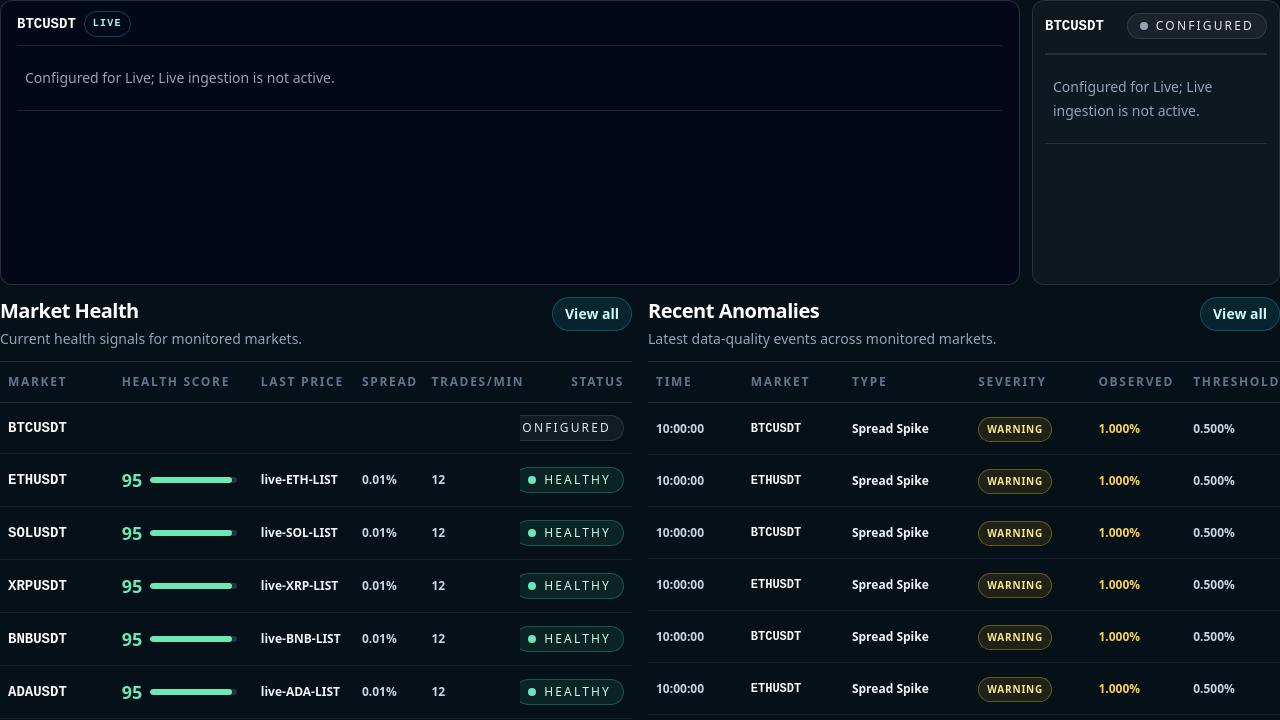
Test: dashboard popup mode ownership › uses the exact empty state and disables timeline for a configured Live market
The image size is (1280, 720).
What coordinates should you click on to do the following:
click the button with aria-label "Open BTCUSDT market detail"
I would click on:
 (37, 428)
Its box is [0,402,632,454].
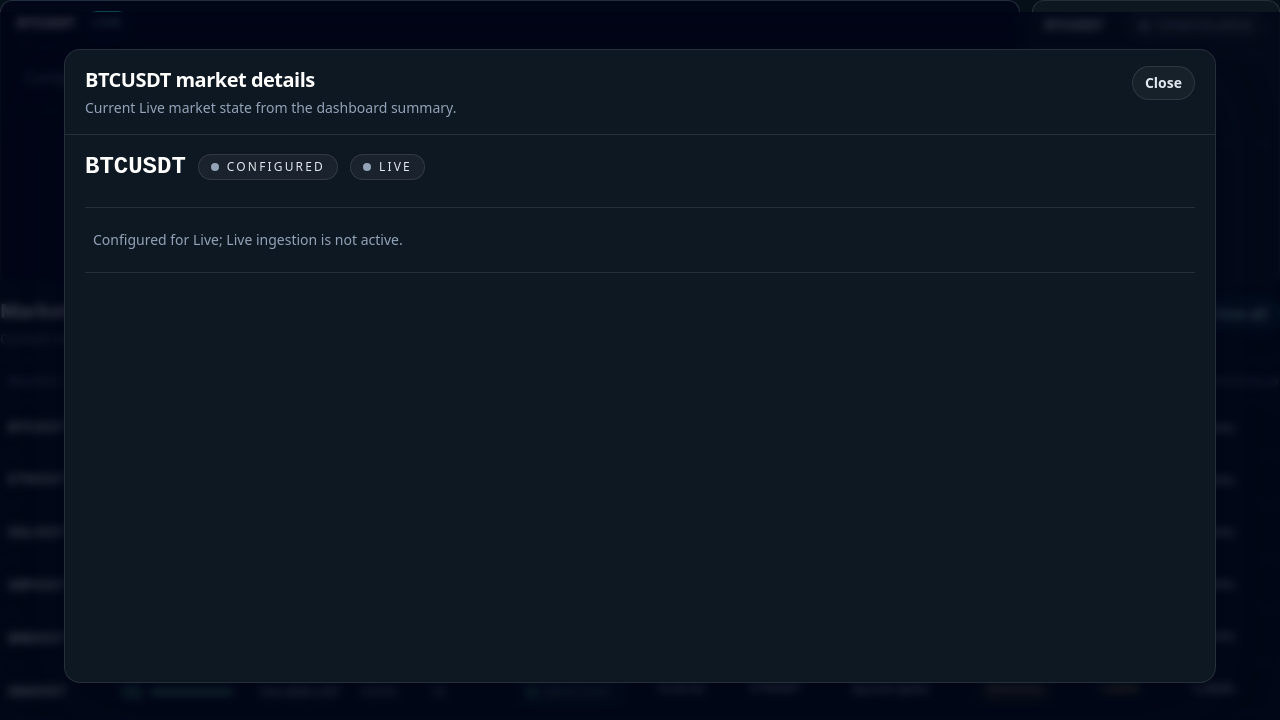
Check: the text "Configured for Live; Live ingestion is not active." is shown, box [85,207,1195,273]
